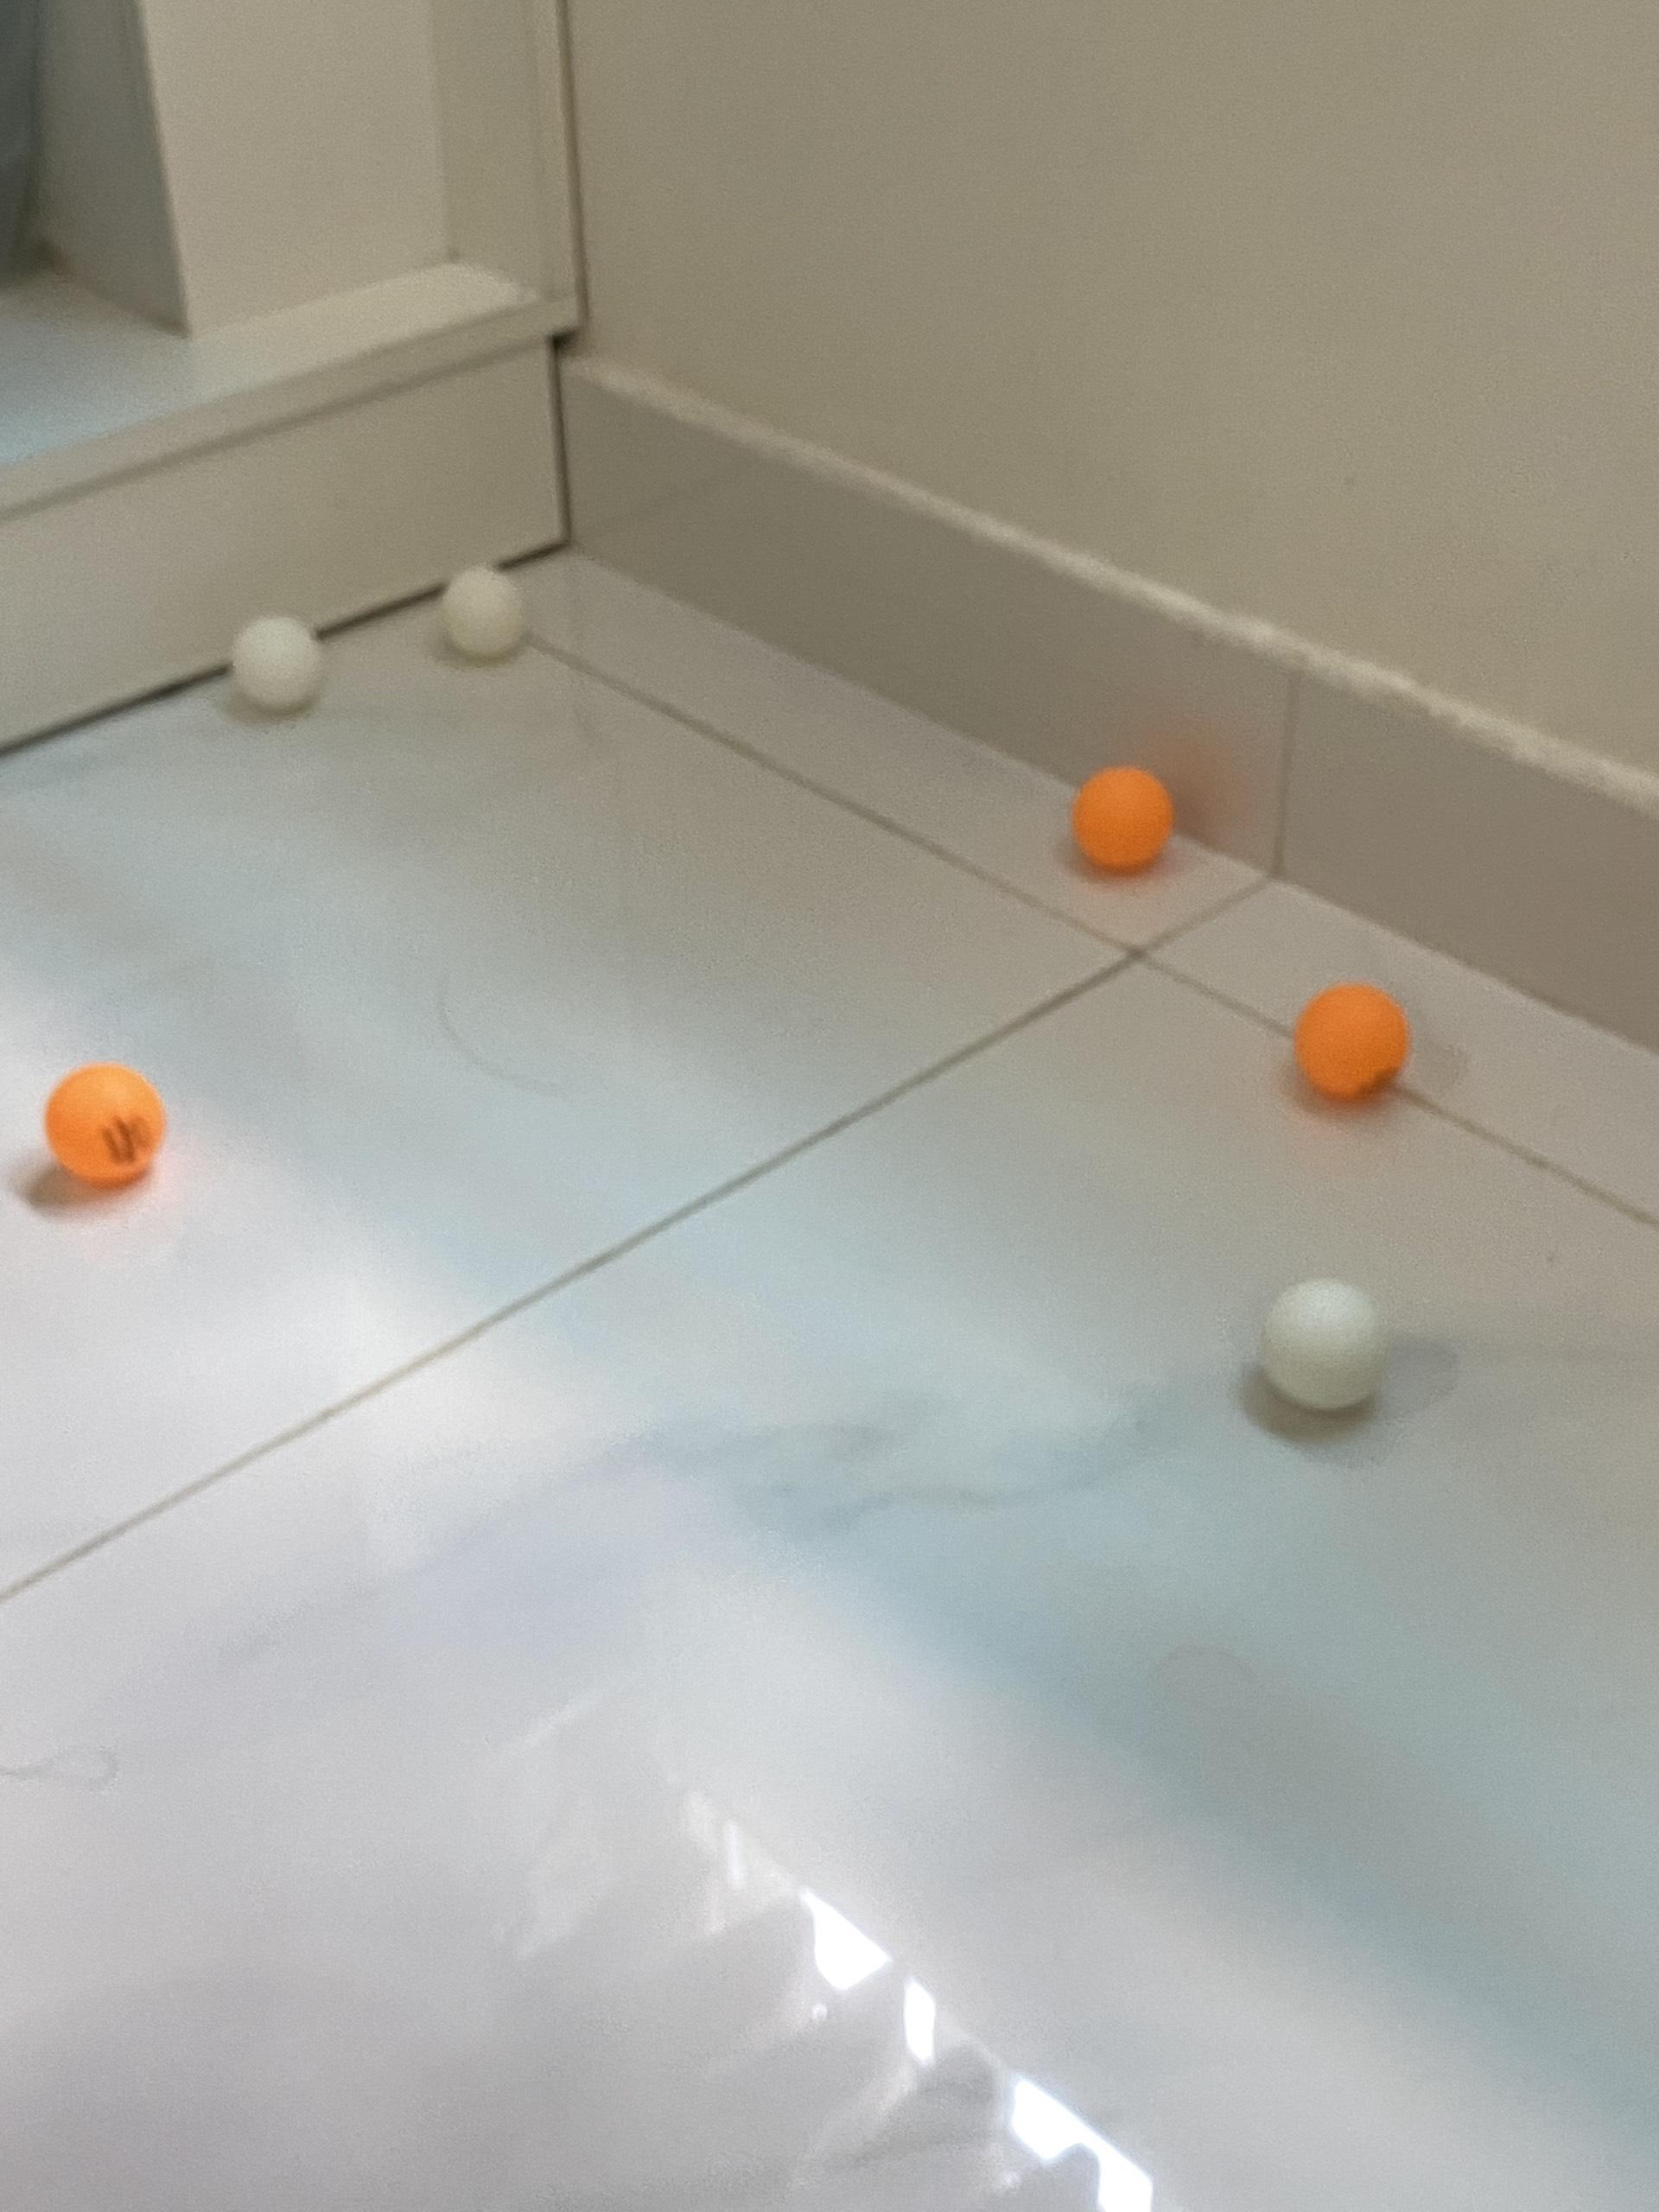oball: (45, 1057, 171, 1190), (1298, 986, 1415, 1103), (1073, 770, 1173, 867)
